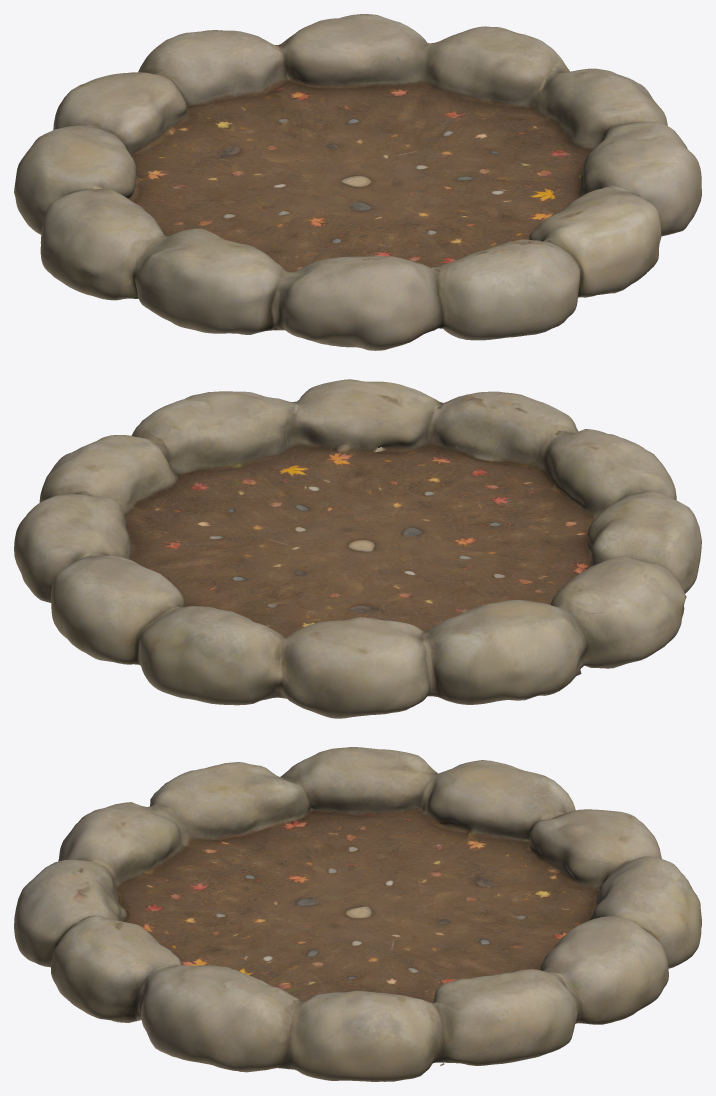
File: Camp Fire Construction Model.fbx
The picture shows the model from 3 angles, top to bottom: view 1: azimuth 30°, elevation 25°; view 2: azimuth 150°, elevation 25°; view 3: azimuth 270°, elevation 25°; orthographic projection. The views are drawn at different scales.
Parts seen in each view (by area): view 1: Mesh0; view 2: Mesh0; view 3: Mesh0.
Part boxes in pixels (left/top/right/bottom): Mesh0: left=14, top=14, right=701, bottom=350; Mesh0: left=14, top=379, right=701, bottom=718; Mesh0: left=14, top=747, right=701, bottom=1081.
Size of the model in its own units: 201 by 26.29 by 201.
Materials: 1 (1 with a texture image).
